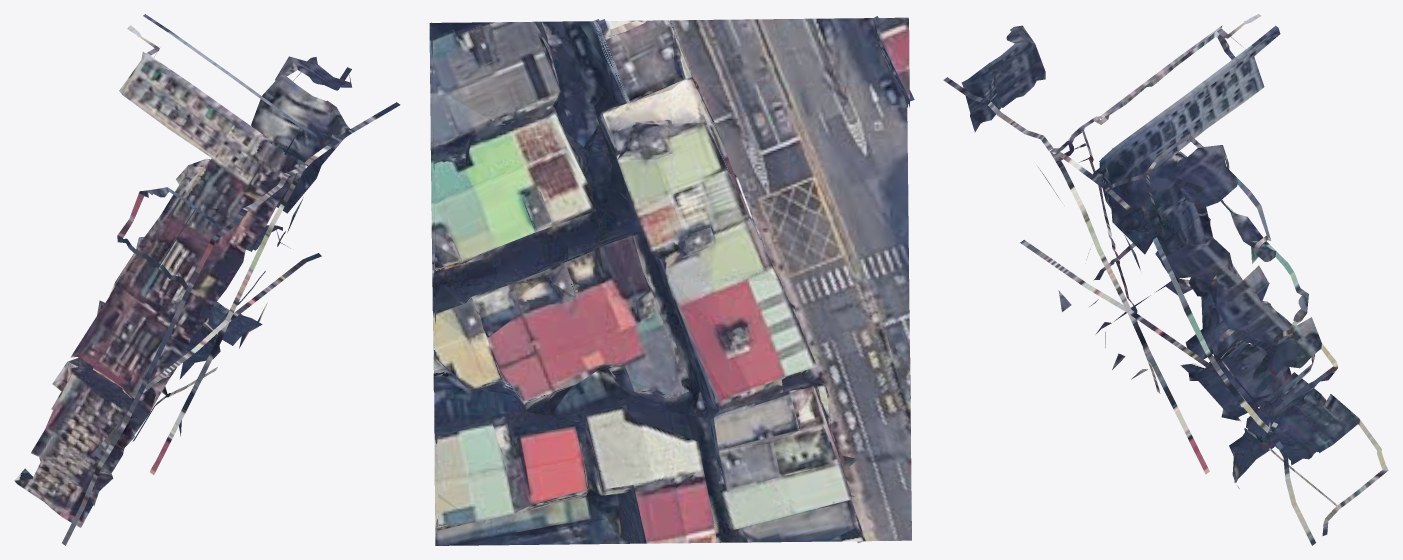
The picture shows the model from 3 angles, left to right: view 1: azimuth 30°, elevation 25°; view 2: azimuth 150°, elevation 25°; view 3: azimuth 270°, elevation 25°; orthographic projection. The views are drawn at different scales.
Size of the model in its own units: 77.65 by 88.05 by 76.88.
Materials: 1 (1 with a texture image).
